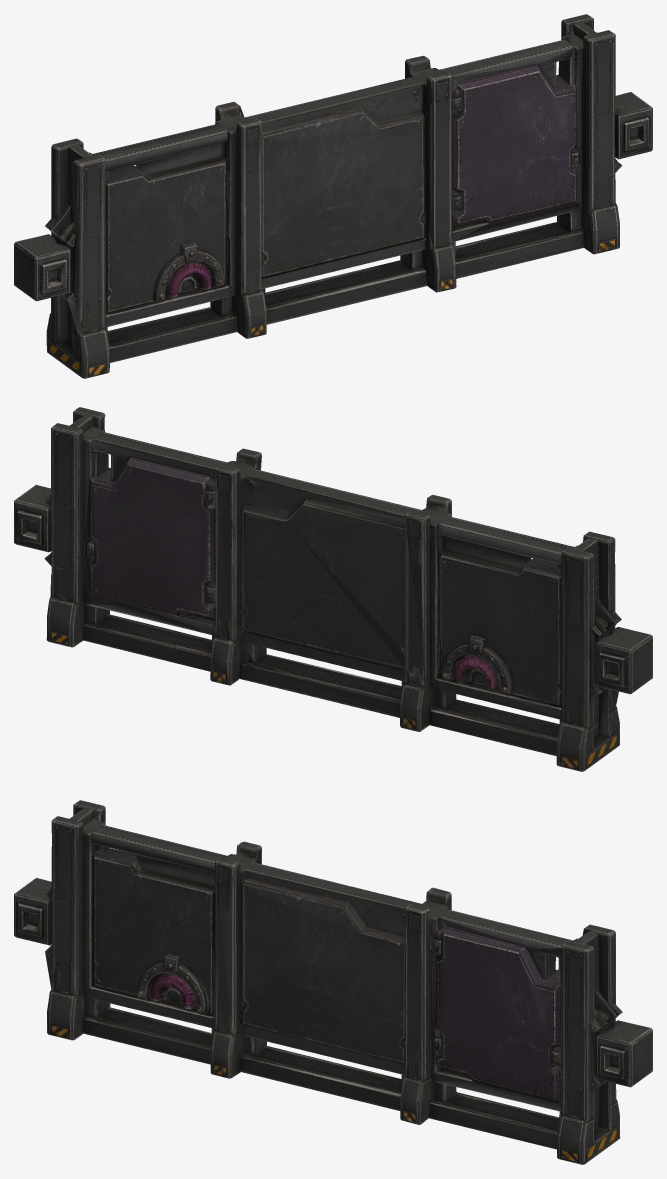
File: scrap-barricade.glb
The picture shows the model from 3 angles, top to bottom: view 1: azimuth 30°, elevation 25°; view 2: azimuth 150°, elevation 25°; view 3: azimuth 330°, elevation 25°; orthographic projection.
Parts seen in each view (by area): view 1: mesh_node; view 2: mesh_node; view 3: mesh_node.
Part boxes in pixels (x1=…): mesh_node: x1=14, y1=14, x2=652, y2=378; mesh_node: x1=14, y1=407, x2=652, y2=771; mesh_node: x1=14, y1=800, x2=652, y2=1164.
Bounding box in the file's own units: 2 × 0.6548 × 0.2123.
1 material, 1 textured.
